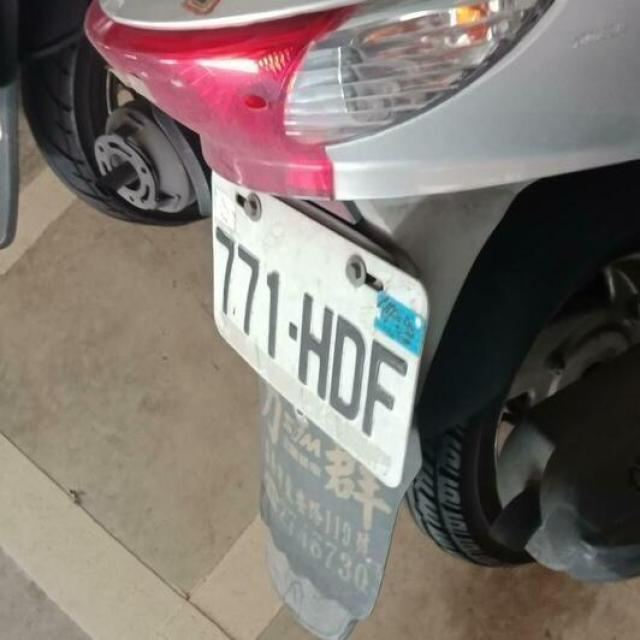W: (177, 176, 456, 486)
